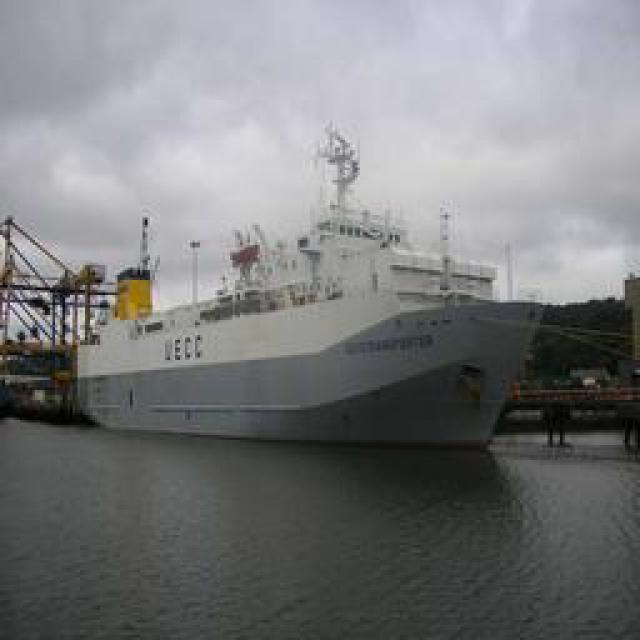Ship: (69, 152, 552, 442)
